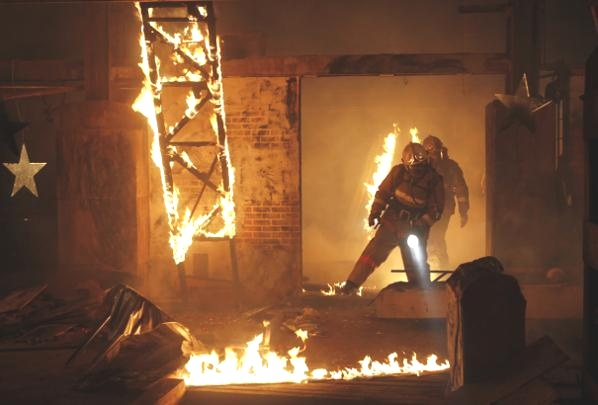fire: (123, 0, 276, 262), (170, 313, 461, 398), (351, 110, 420, 234)
